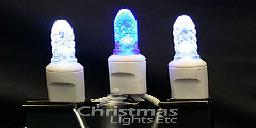LED: (43, 15, 78, 66), (171, 13, 200, 63), (112, 8, 141, 56)
